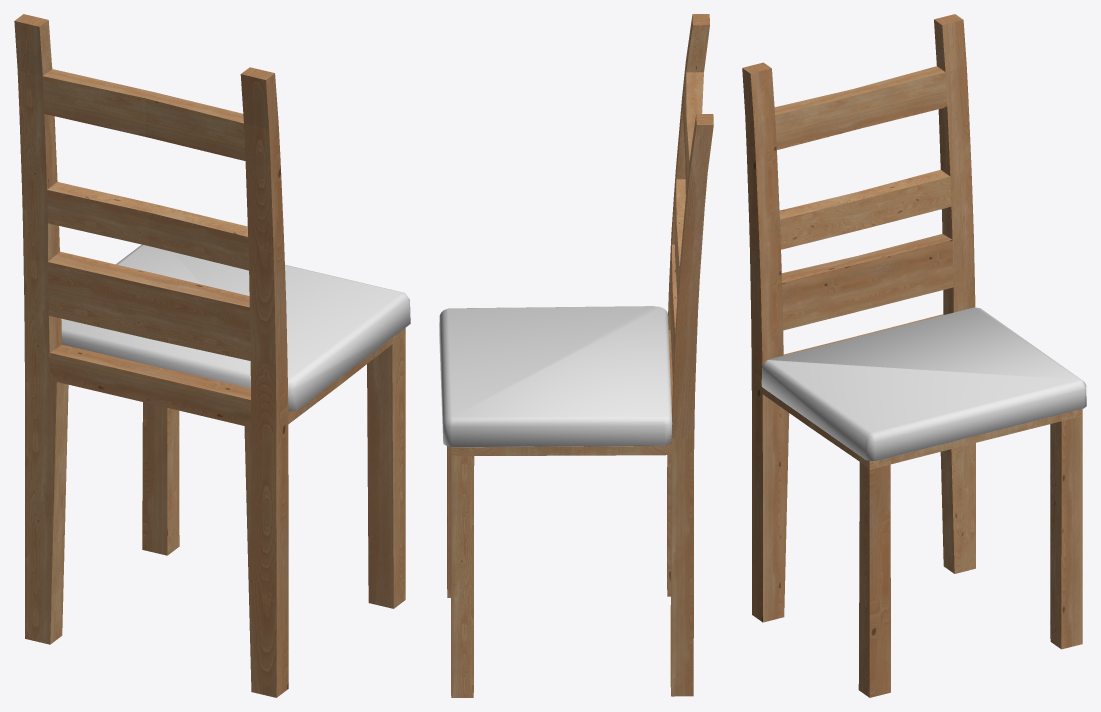
Rendered from stul.fbx.
The picture shows the model from 3 angles, left to right: view 1: azimuth 30°, elevation 25°; view 2: azimuth 150°, elevation 25°; view 3: azimuth 270°, elevation 25°; orthographic projection. The views are drawn at different scales.
Visible parts, largest first — view 1: chair.003; view 2: chair.003; view 3: chair.003.
Part boxes in pixels (x1=…): chair.003: x1=14, y1=14, x2=410, y2=697; chair.003: x1=439, y1=14, x2=713, y2=697; chair.003: x1=742, y1=14, x2=1086, y2=697.
Size of the model in its own units: 61.97 by 107 by 61.72.
